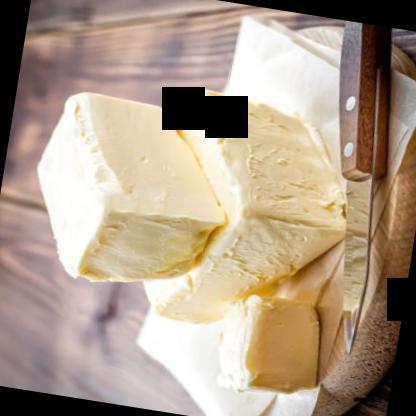butter: (130, 94, 355, 345), (24, 84, 238, 295), (210, 287, 336, 405)
